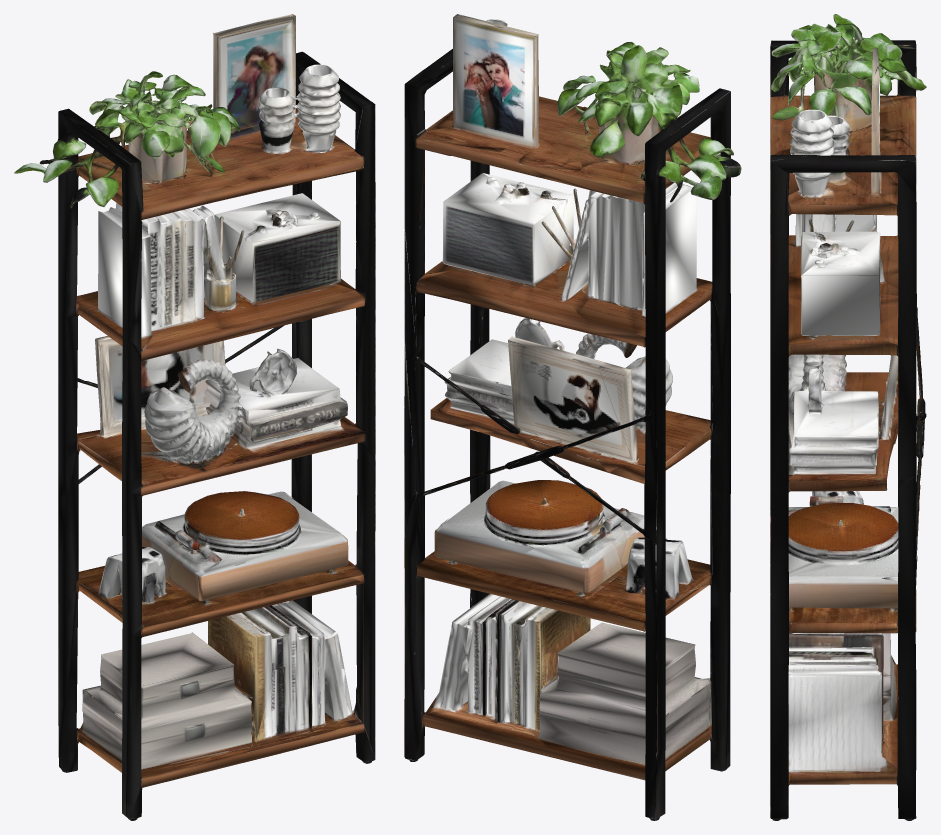
File: meshy-target-1001317520.glb
The picture shows the model from 3 angles, left to right: view 1: azimuth 30°, elevation 25°; view 2: azimuth 150°, elevation 25°; view 3: azimuth 270°, elevation 25°; orthographic projection. The views are drawn at different scales.
Parts seen in each view (by area): view 1: Exact catalog scale: target-1001317520; view 2: Exact catalog scale: target-1001317520; view 3: Exact catalog scale: target-1001317520.
Boxes of the visible parts, box(x1,y1,x2,y2) form: Exact catalog scale: target-1001317520: box(14, 14, 375, 820); Exact catalog scale: target-1001317520: box(404, 14, 741, 820); Exact catalog scale: target-1001317520: box(770, 14, 926, 820).
Bounding box in the file's own units: 0.66 × 1.52 × 0.3.
1 material, 1 textured.
